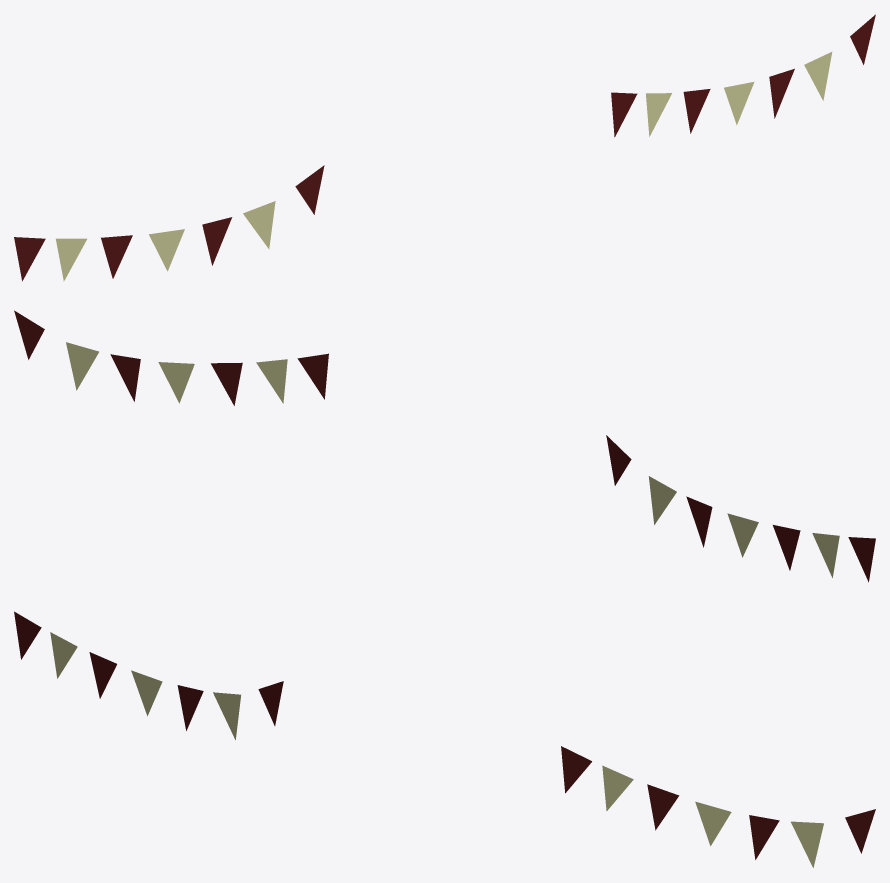
The model's file is RibonFlakes.FBX.
3 renders of one model, top to bottom at view 1: azimuth 30°, elevation 25°; view 2: azimuth 150°, elevation 25°; view 3: azimuth 330°, elevation 25°, orthographic.
Parts seen in each view (by area): view 1: Box197; view 2: Box197; view 3: Box197.
Part boxes in pixels (left/top/right/bottom): Box197: left=14, top=14, right=875, bottom=281; Box197: left=14, top=310, right=875, bottom=582; Box197: left=14, top=611, right=875, bottom=867.
Size of the model in its own units: 104 by 10.34 by 5.6.
1 material, 1 textured.
